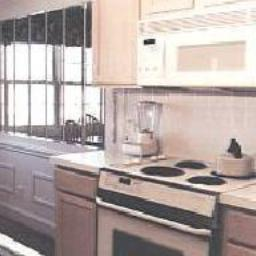Electrodomestico: (95, 187, 215, 256), (0, 215, 79, 256)
